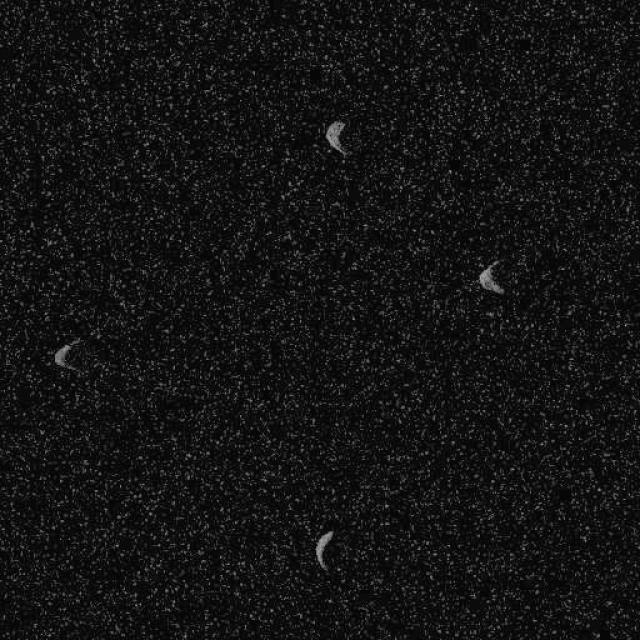D2: (476, 259, 505, 295), (51, 339, 80, 371), (324, 119, 348, 156), (314, 528, 334, 572)
